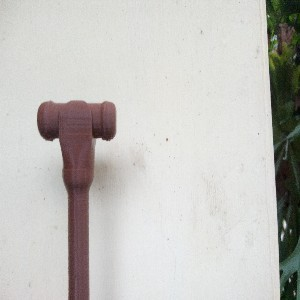palu: (37, 99, 117, 300)
